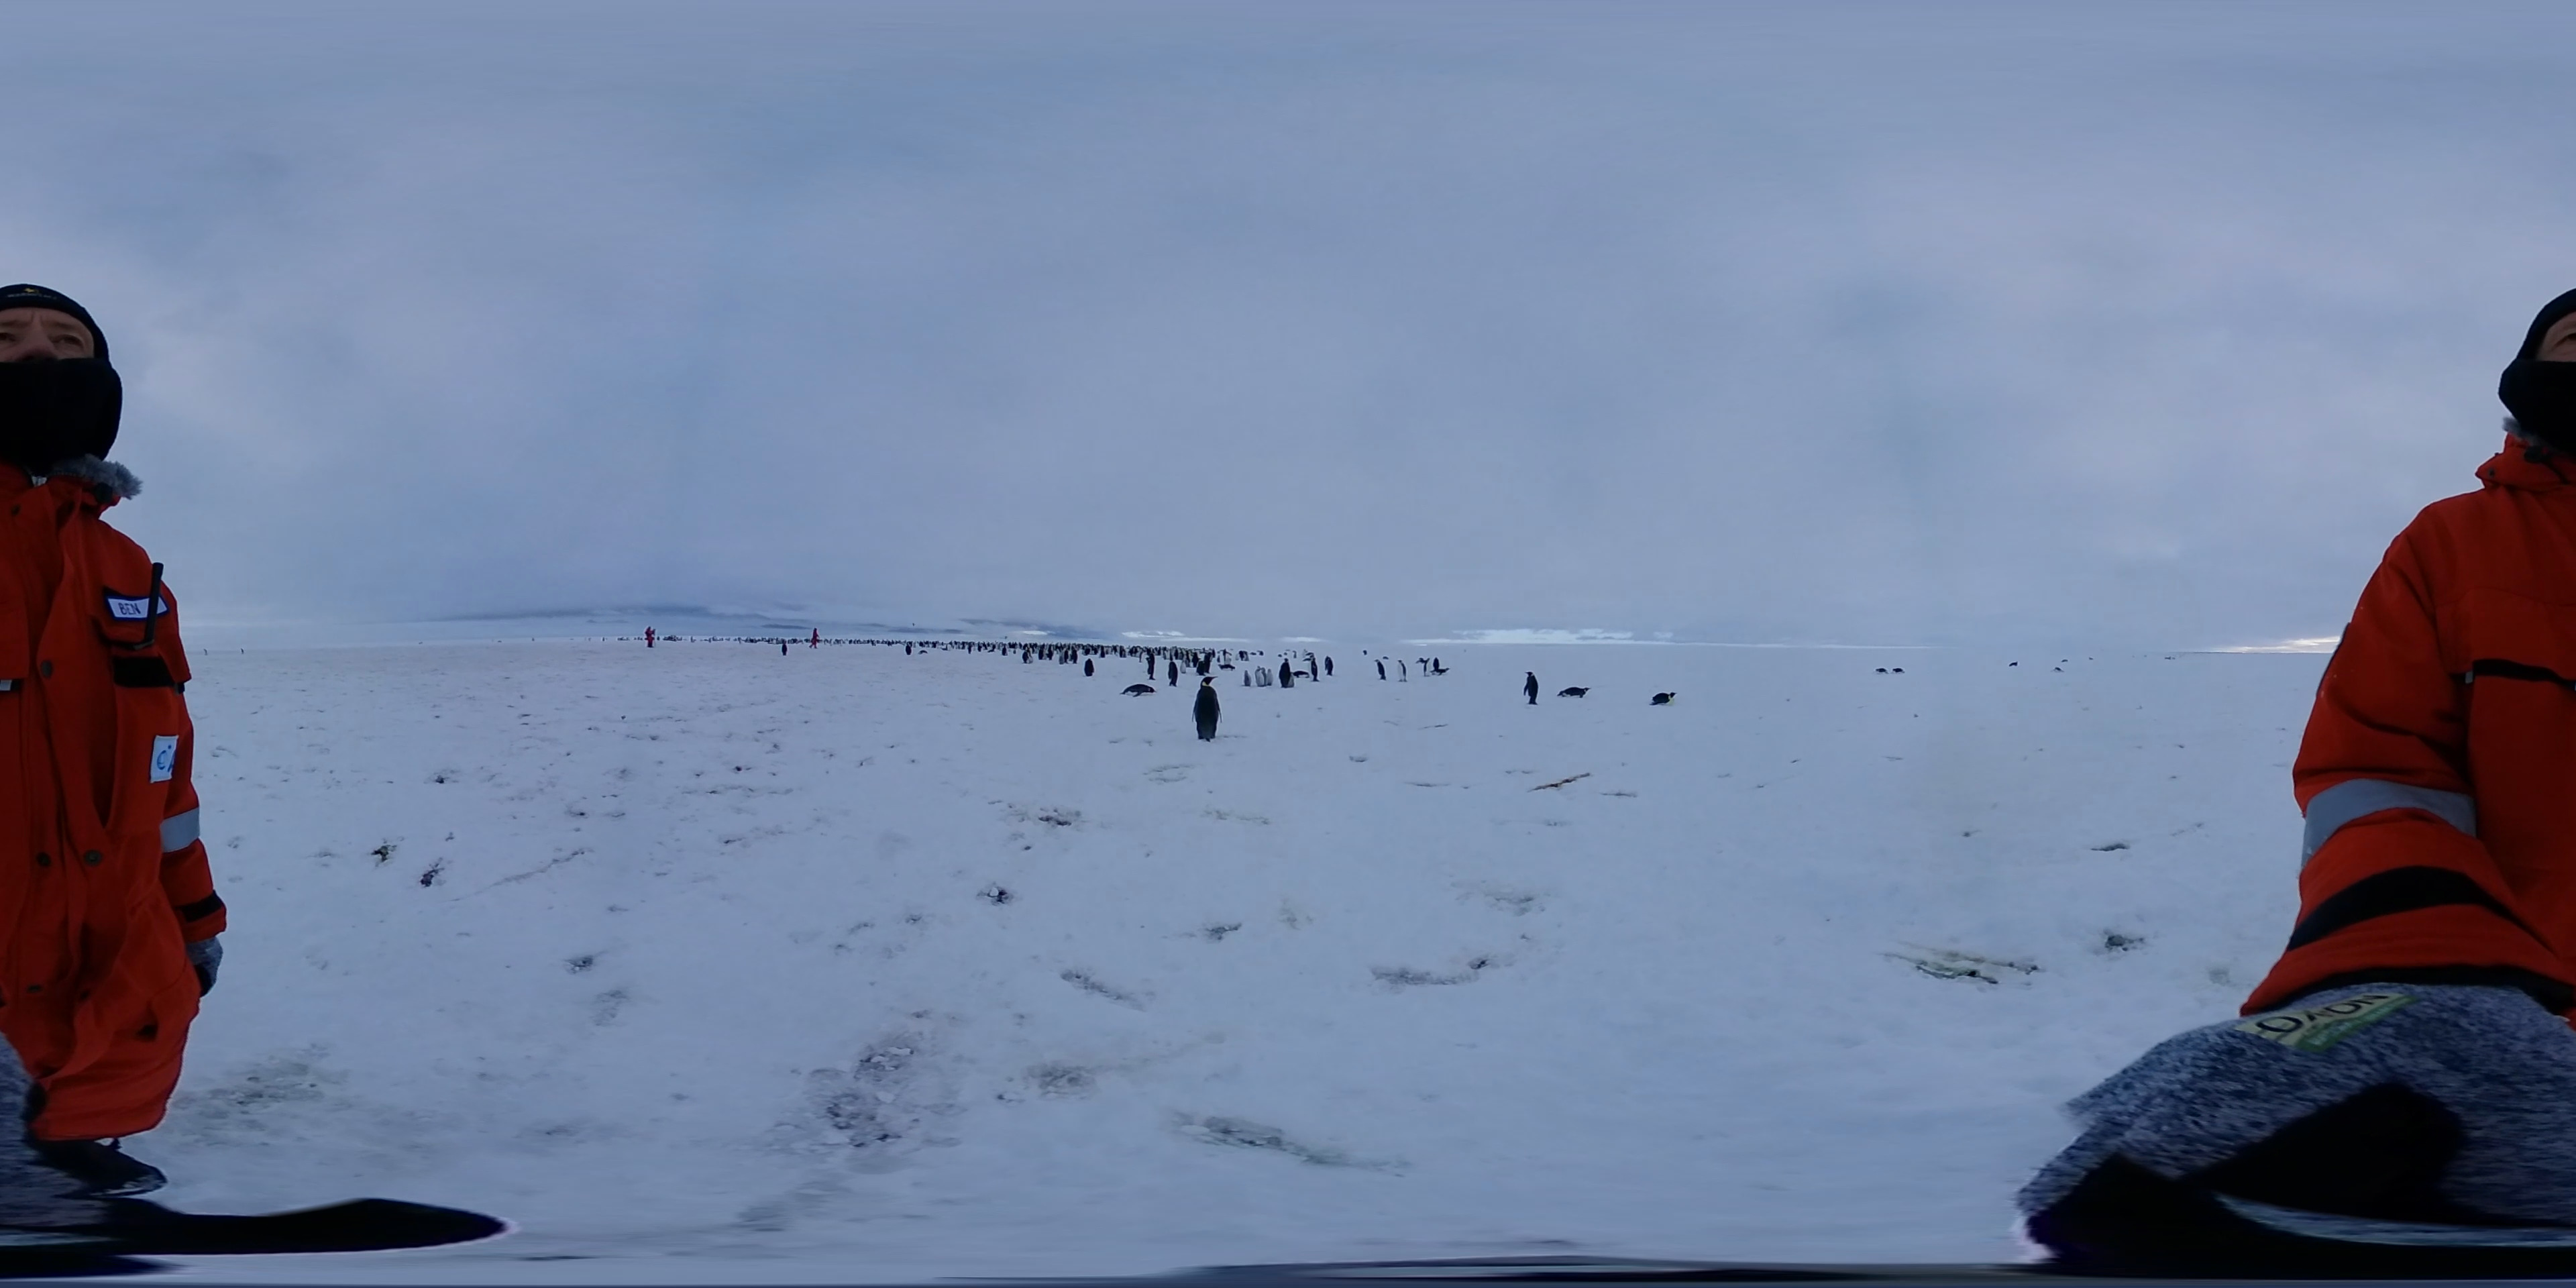adult_standing_penguin: (1189, 674, 1222, 744), (1520, 667, 1541, 710), (1276, 659, 1295, 690), (1165, 657, 1181, 690), (1142, 655, 1158, 685), (1308, 655, 1321, 685), (1395, 659, 1408, 685), (1321, 654, 1336, 677), (1373, 657, 1387, 682), (1423, 659, 1433, 680), (1084, 659, 1094, 678)
adult_toboggan_penguin: (1554, 687, 1595, 703), (1117, 682, 1153, 698), (1648, 690, 1677, 706), (1291, 670, 1314, 680), (1871, 667, 1888, 677), (1891, 667, 1907, 675)
juvenile_penguin: (1253, 665, 1268, 688), (1242, 670, 1255, 688), (1265, 667, 1275, 688)
researcher: (2262, 260, 2576, 1112), (0, 274, 228, 1276)
